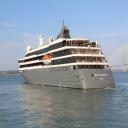cruises: (17, 23, 119, 94)
